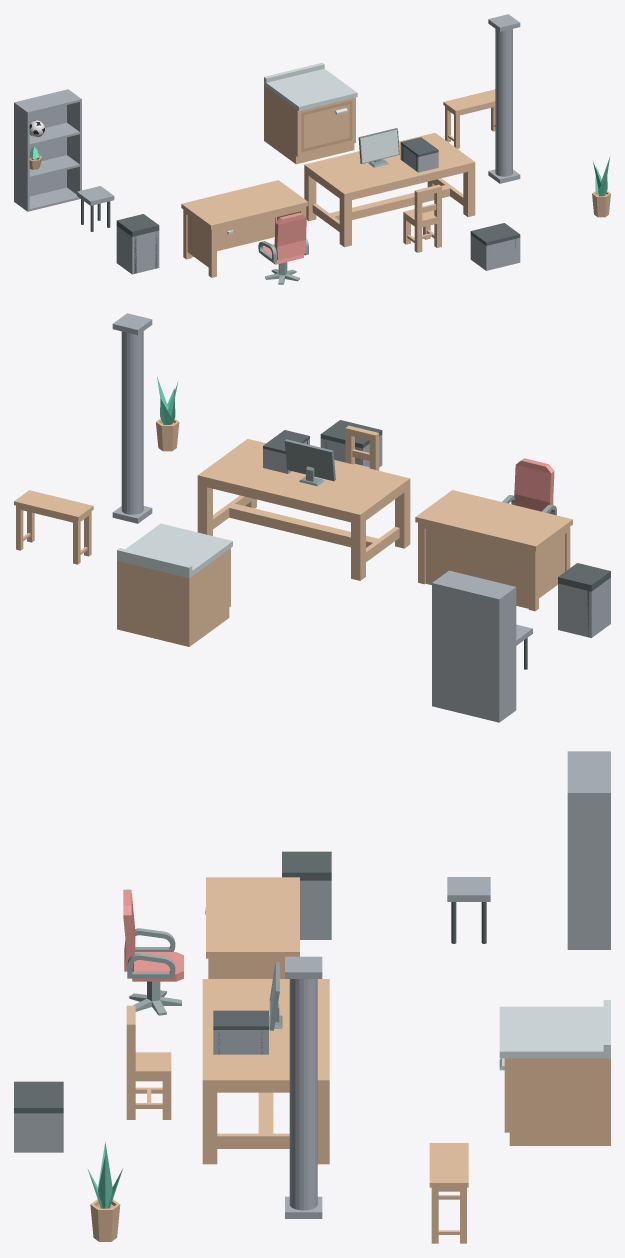
3 views of the same model, one above another, from view 1: azimuth 30°, elevation 25°; view 2: azimuth 150°, elevation 25°; view 3: azimuth 270°, elevation 25° (orthographic). The views are drawn at different scales.
Parts seen in each view (by area): view 1: table_green__table(Clone), desk_blue__desk(Clone), cabinet_blue__kitchenCabinet(Clone), column_cyan__column_cyan shaft, cabinet_blue__door, shelf_orange__shelf_orange back, chair_cyan__chair(Clone), deskchair_black__chair, bin_gray__bin_gray shell, shelf_orange__shelf_orange side_l, sidetable_brown__sideTable(Clone), crate_red__crate_red shell (+14 smaller); view 2: table_green__table(Clone), desk_blue__desk(Clone), cabinet_blue__kitchenCabinet(Clone), shelf_orange__shelf_orange back, column_cyan__column_cyan shaft, sidetable_brown__sideTable(Clone), shelf_orange__shelf_orange side_l, bin_gray__bin_gray shell, deskchair_black__chair, monitor_gray__computerScreen(Clone), chair_cyan__chair(Clone), shelf_orange__shelf_orange board3 (+5 smaller); view 3: cabinet_blue__kitchenCabinet(Clone), table_green__table(Clone), desk_blue__desk(Clone), shelf_orange__shelf_orange side_r, column_cyan__column_cyan shaft, chair_cyan__chair(Clone), deskchair_black__chair, sidetable_brown__sideTable(Clone), crate_red__crate_red shell, bin_gray__bin_gray shell, shelf_orange__shelf_orange board3, crate_red__crate_red lid (+9 smaller).
Part boxes in pixels (<box>): table_green__table(Clone): <box>304,133,475,247</box>; desk_blue__desk(Clone): <box>181,180,308,277</box>; cabinet_blue__kitchenCabinet(Clone): <box>264,63,357,164</box>; column_cyan__column_cyan shaft: <box>495,29,512,176</box>; cabinet_blue__door: <box>301,100,352,152</box>; shelf_orange__shelf_orange back: <box>16,90,66,196</box>; chair_cyan__chair(Clone): <box>403,184,441,252</box>; deskchair_black__chair: <box>258,212,308,264</box>; bin_gray__bin_gray shell: <box>116,226,159,274</box>; shelf_orange__shelf_orange side_l: <box>14,102,29,211</box>; sidetable_brown__sideTable(Clone): <box>443,89,495,148</box>; crate_red__crate_red shell: <box>470,235,520,270</box>; table_green__table(Clone): <box>197,439,410,580</box>; desk_blue__desk(Clone): <box>415,490,572,611</box>; cabinet_blue__kitchenCabinet(Clone): <box>117,523,232,646</box>; shelf_orange__shelf_orange back: <box>434,583,497,721</box>; column_cyan__column_cyan shaft: <box>121,331,143,514</box>; sidetable_brown__sideTable(Clone): <box>14,490,93,564</box>; shelf_orange__shelf_orange side_l: <box>497,586,516,722</box>; bin_gray__bin_gray shell: <box>558,577,610,637</box>; deskchair_black__chair: <box>502,458,556,515</box>; monitor_gray__computerScreen(Clone): <box>284,439,335,486</box>; chair_cyan__chair(Clone): <box>345,425,379,470</box>; shelf_orange__shelf_orange board3: <box>436,571,513,597</box>; cabinet_blue__kitchenCabinet(Clone): <box>499,1000,610,1145</box>; table_green__table(Clone): <box>202,979,329,1164</box>; desk_blue__desk(Clone): <box>206,877,299,978</box>; shelf_orange__shelf_orange side_r: <box>567,791,610,949</box>; column_cyan__column_cyan shaft: <box>289,979,317,1210</box>; chair_cyan__chair(Clone): <box>126,1005,171,1119</box>; deskchair_black__chair: <box>123,889,183,981</box>; sidetable_brown__sideTable(Clone): <box>429,1143,468,1243</box>; crate_red__crate_red shell: <box>14,1113,63,1152</box>; bin_gray__bin_gray shell: <box>300,880,331,939</box>; shelf_orange__shelf_orange board3: <box>567,752,608,791</box>; crate_red__crate_red lid: <box>14,1081,63,1113</box>.
Bounding box in the file's own units: 6.43 × 2.2 × 4.82.
